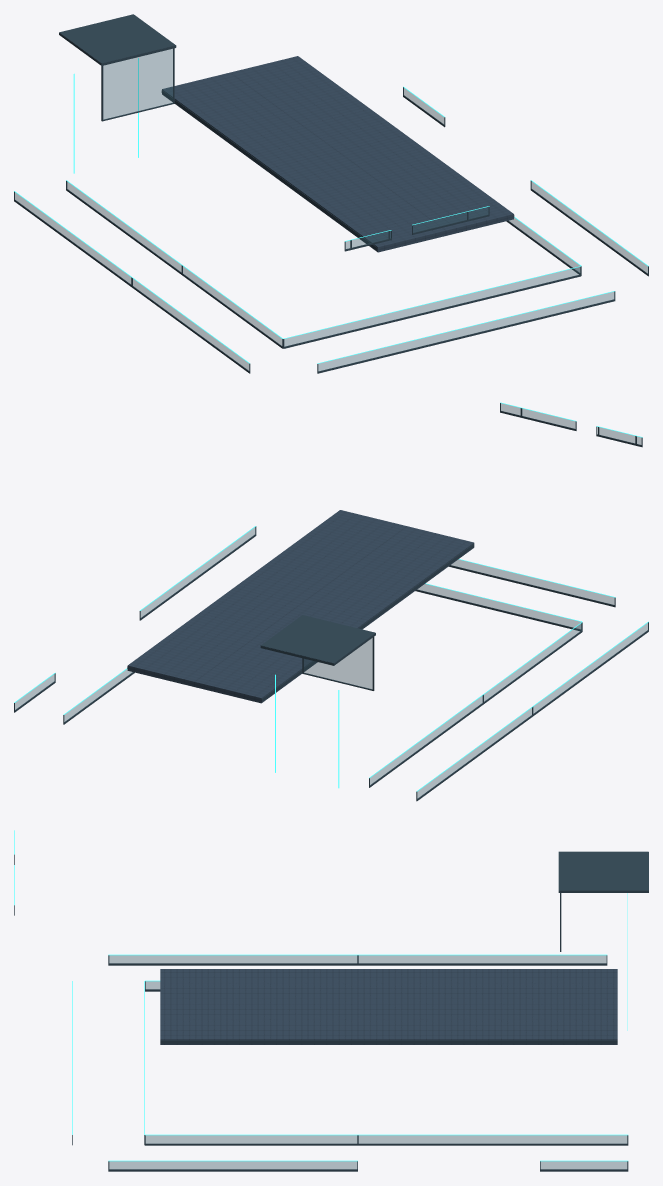
File: east-loggia-portal-0.glb
The picture shows the model from 3 angles, top to bottom: view 1: azimuth 30°, elevation 25°; view 2: azimuth 150°, elevation 25°; view 3: azimuth 270°, elevation 25°; orthographic projection. The views are drawn at different scales.
Visible parts, largest first — view 1: east-loggia-portal-0::momentum-landing, east-loggia-portal-0::mastery-mantle-cover-front-glass, east-loggia-portal-0::detail-fascia-momentum-landing--1, east-loggia-portal-0::detail-wall-room-fin-96--1; view 2: east-loggia-portal-0::momentum-landing, east-loggia-portal-0::mastery-mantle-cover-front-glass, east-loggia-portal-0::detail-fascia-momentum-landing--1, east-loggia-portal-0::detail-wall-room-fin-96--1; view 3: east-loggia-portal-0::momentum-landing, east-loggia-portal-0::mastery-mantle-cover-front-glass, east-loggia-portal-0::detail-fascia-momentum-landing--1, east-loggia-portal-0::detail-wall-room-fin-96--1.
Boxes of the visible parts, bbox=[...] form: east-loggia-portal-0::momentum-landing: bbox=[162, 56, 513, 252]; east-loggia-portal-0::mastery-mantle-cover-front-glass: bbox=[14, 49, 647, 371]; east-loggia-portal-0::detail-fascia-momentum-landing--1: bbox=[14, 14, 648, 373]; east-loggia-portal-0::detail-wall-room-fin-96--1: bbox=[14, 58, 648, 363]; east-loggia-portal-0::momentum-landing: bbox=[127, 510, 474, 703]; east-loggia-portal-0::mastery-mantle-cover-front-glass: bbox=[15, 403, 648, 798]; east-loggia-portal-0::detail-fascia-momentum-landing--1: bbox=[14, 403, 648, 801]; east-loggia-portal-0::detail-wall-room-fin-96--1: bbox=[14, 402, 648, 791]; east-loggia-portal-0::momentum-landing: bbox=[160, 969, 617, 1044]; east-loggia-portal-0::mastery-mantle-cover-front-glass: bbox=[109, 955, 626, 1169]; east-loggia-portal-0::detail-fascia-momentum-landing--1: bbox=[14, 851, 648, 1171]; east-loggia-portal-0::detail-wall-room-fin-96--1: bbox=[14, 830, 627, 1161].
Size of the model in its own units: 46.98 by 17.13 by 61.09.
5 materials, 1 textured.
